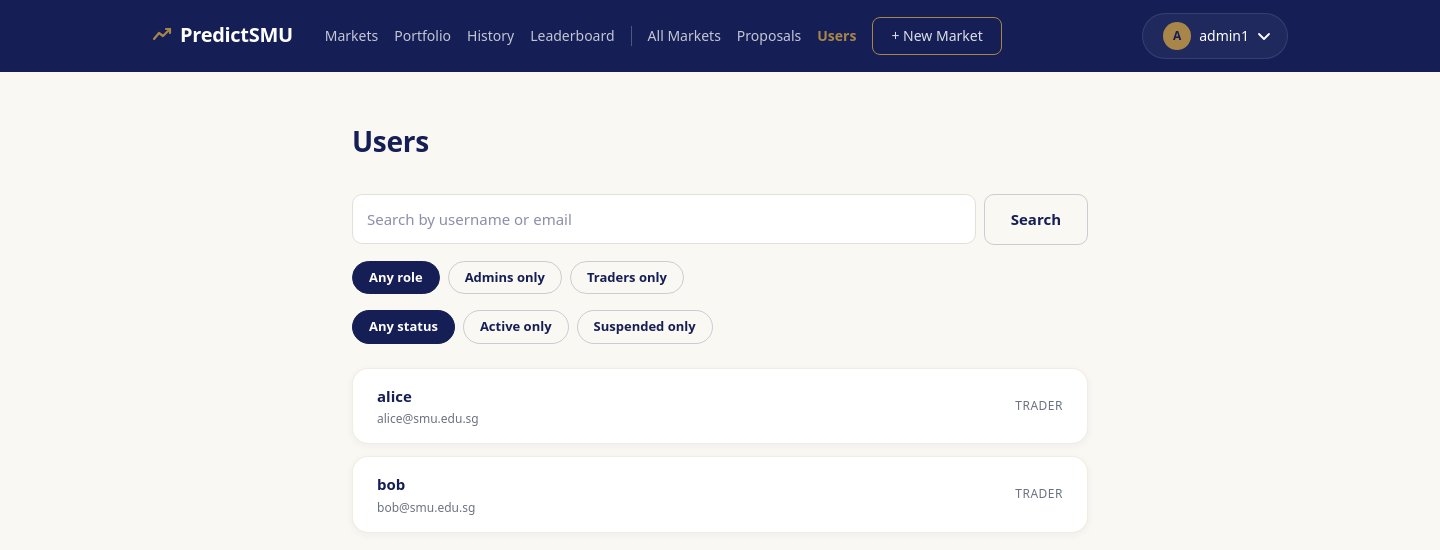
Test: AdminUsersPage › searches by username or email fragment
The image size is (1440, 550).
Expected: the text "alice" is shown, [377,386,412,406]
Type "ali" into the search field labelled "Search by username or email" at (664, 219), box [352,194,976,244]
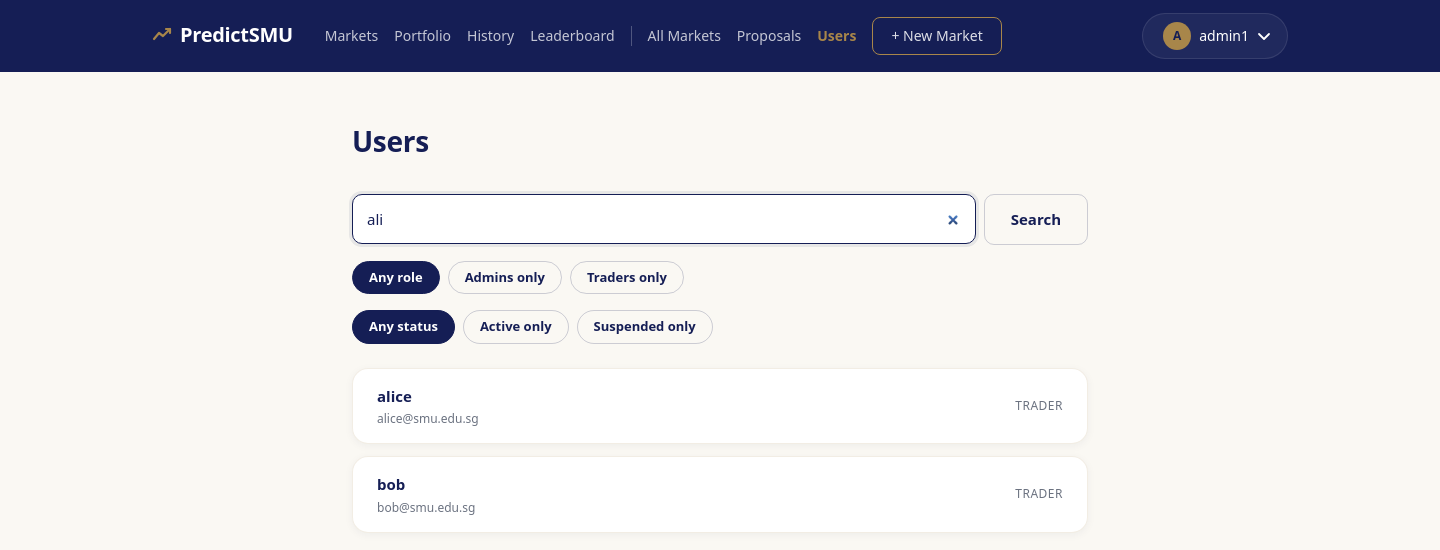
Click the button "Search" at (1036, 219), box [984,194,1088,244]
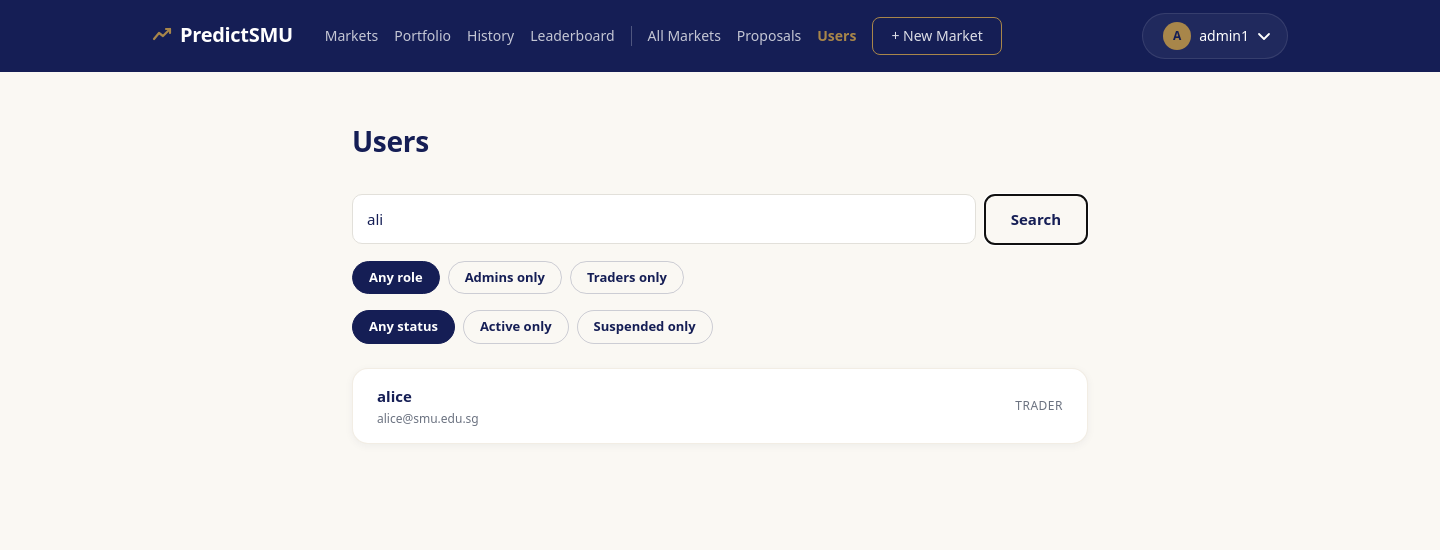
Expected: the text "alice" is shown, [377,386,412,406]
Expected: the link "bob" is gone
